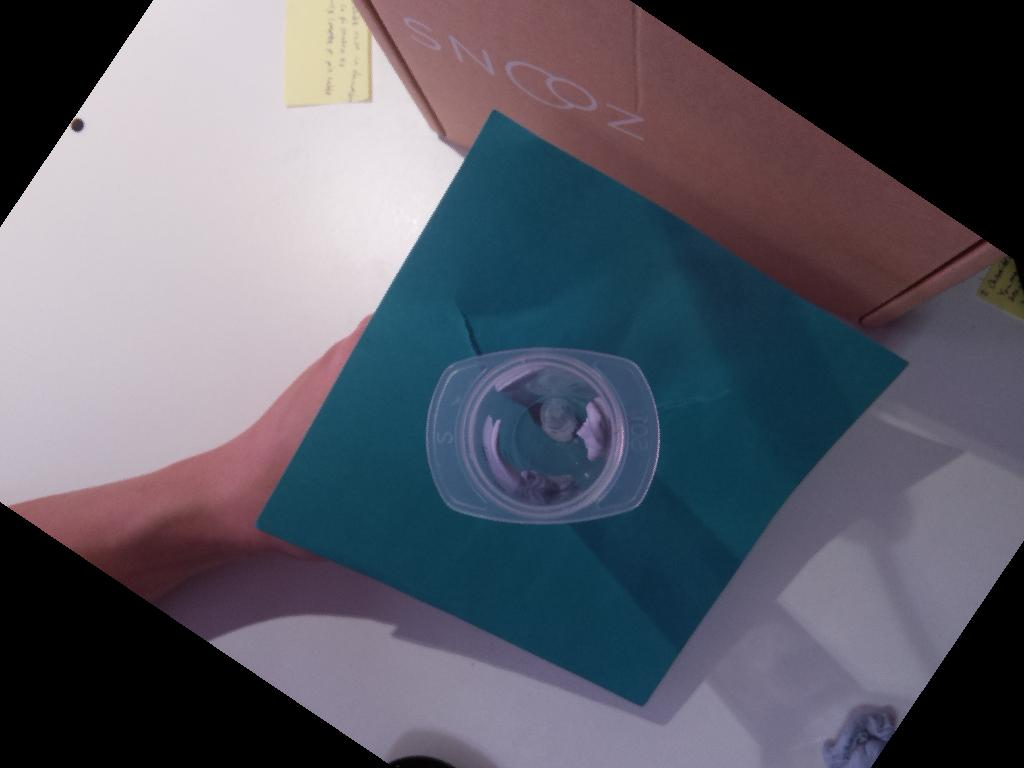dirty: (425, 345, 663, 524)
